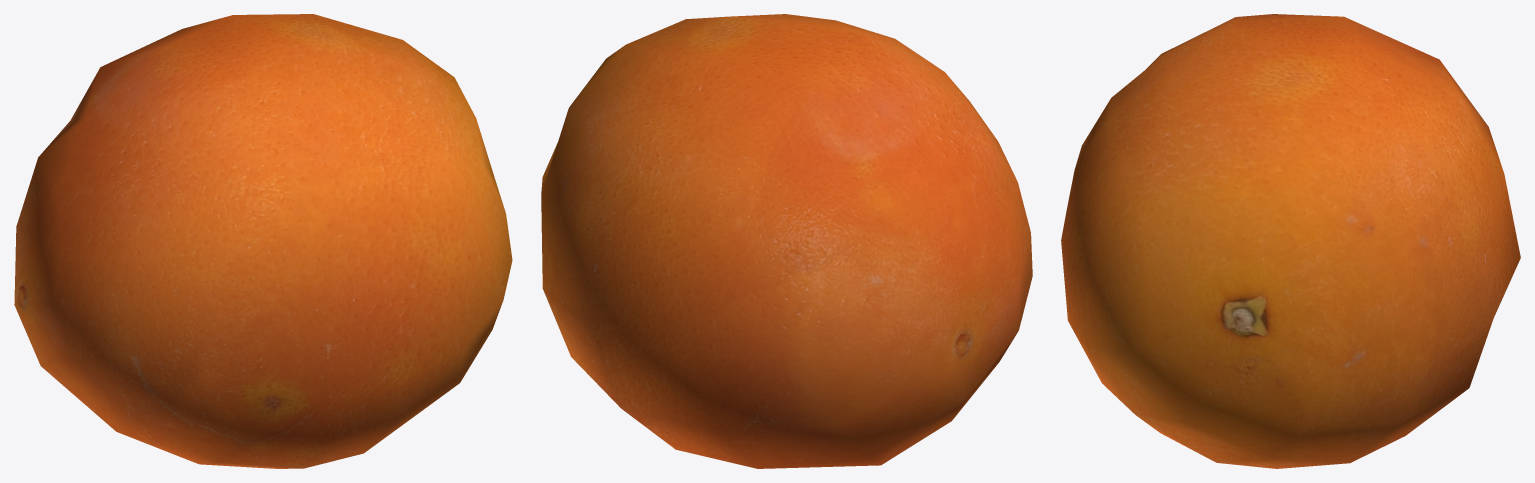
Rendered from A141_Orange_low.fbx.
The picture shows the model from 3 angles, left to right: view 1: azimuth 30°, elevation 25°; view 2: azimuth 150°, elevation 25°; view 3: azimuth 270°, elevation 25°; orthographic projection. The views are drawn at different scales.
Visible parts, largest first — view 1: A141_Orange_low; view 2: A141_Orange_low; view 3: A141_Orange_low.
Boxes of the visible parts, box(x1,y1,x2,y2) form: A141_Orange_low: box(14, 14, 512, 468); A141_Orange_low: box(541, 14, 1032, 468); A141_Orange_low: box(1061, 14, 1520, 468).
Size of the model in its own units: 9.63 by 8.84 by 8.51.
1 material, 1 textured.
